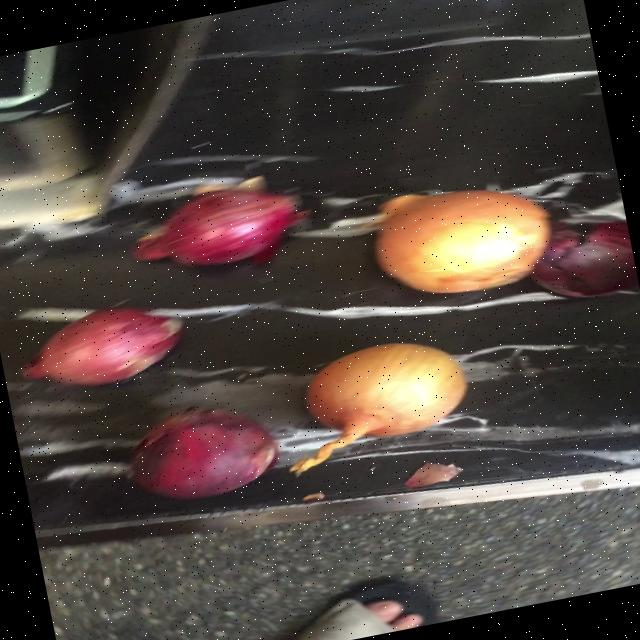Onion: (290, 343, 469, 474), (374, 190, 553, 294), (129, 407, 278, 501), (132, 189, 307, 267), (20, 309, 184, 388)
